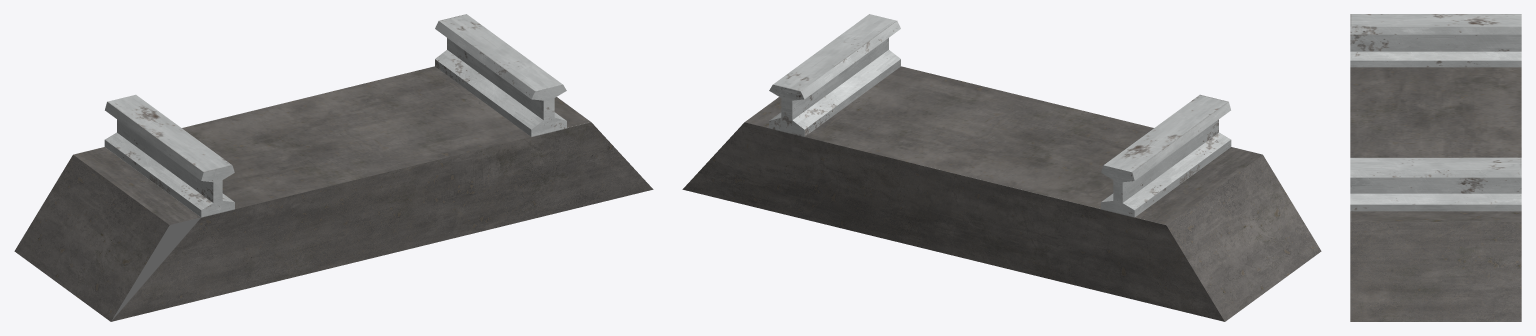
File: Rails.gltf
The picture shows the model from 3 angles, left to right: view 1: azimuth 30°, elevation 25°; view 2: azimuth 150°, elevation 25°; view 3: azimuth 270°, elevation 25°; orthographic projection. The views are drawn at different scales.
Visible parts, largest first — view 1: Cube; view 2: Cube; view 3: Cube.
Boxes of the visible parts, box(x1,y1,x2,y2) form: Cube: box(14, 14, 653, 321); Cube: box(682, 14, 1321, 321); Cube: box(1350, 14, 1521, 321).
Size of the model in its own units: 2.55 by 0.5698 by 0.7852.
1 material, 1 textured.
